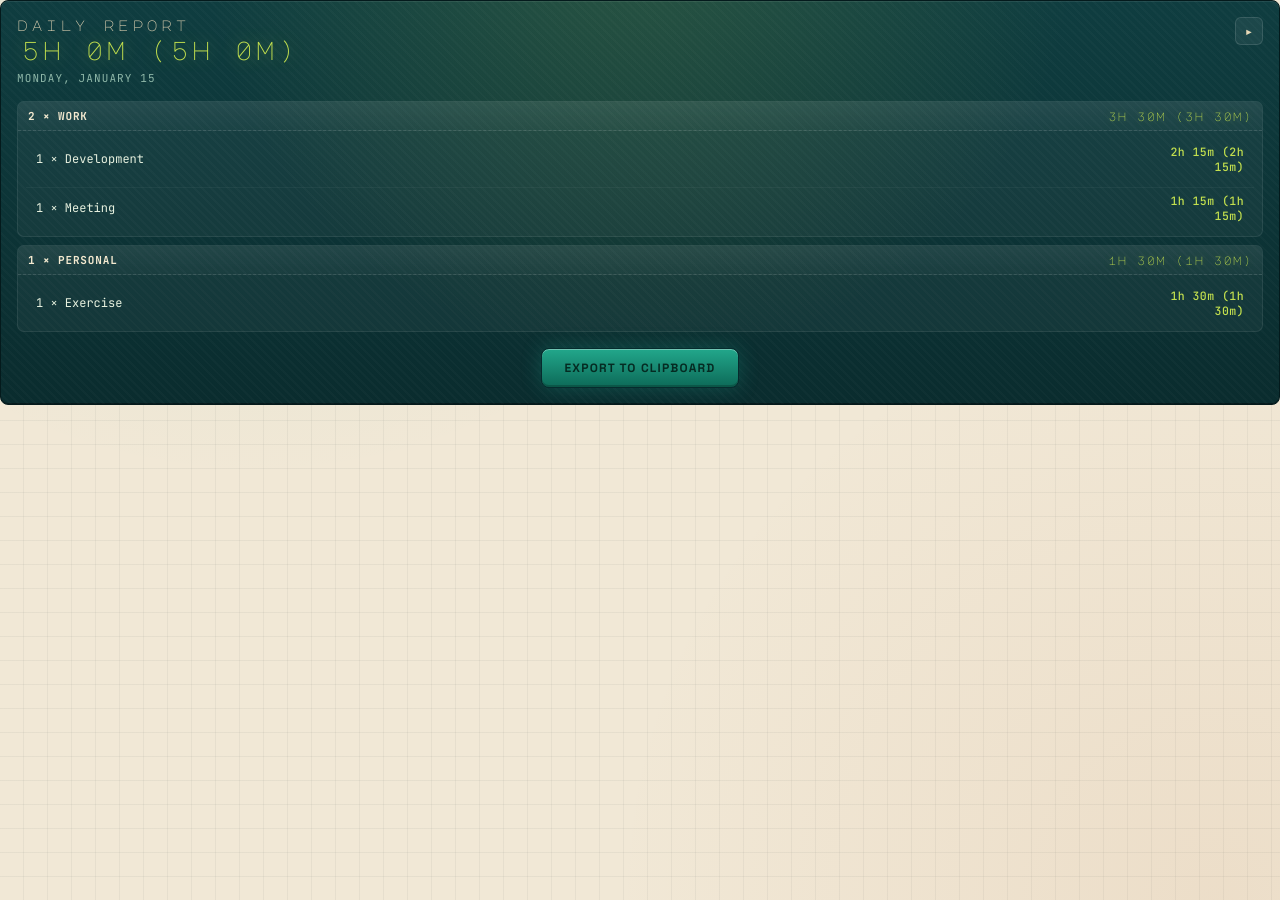
Test: DailyReport Component › Export Functionality › should show success toast after export
The image size is (1280, 900).
Click the button with test id "export-button".
click(640, 368)  # box [542,348,738,388]
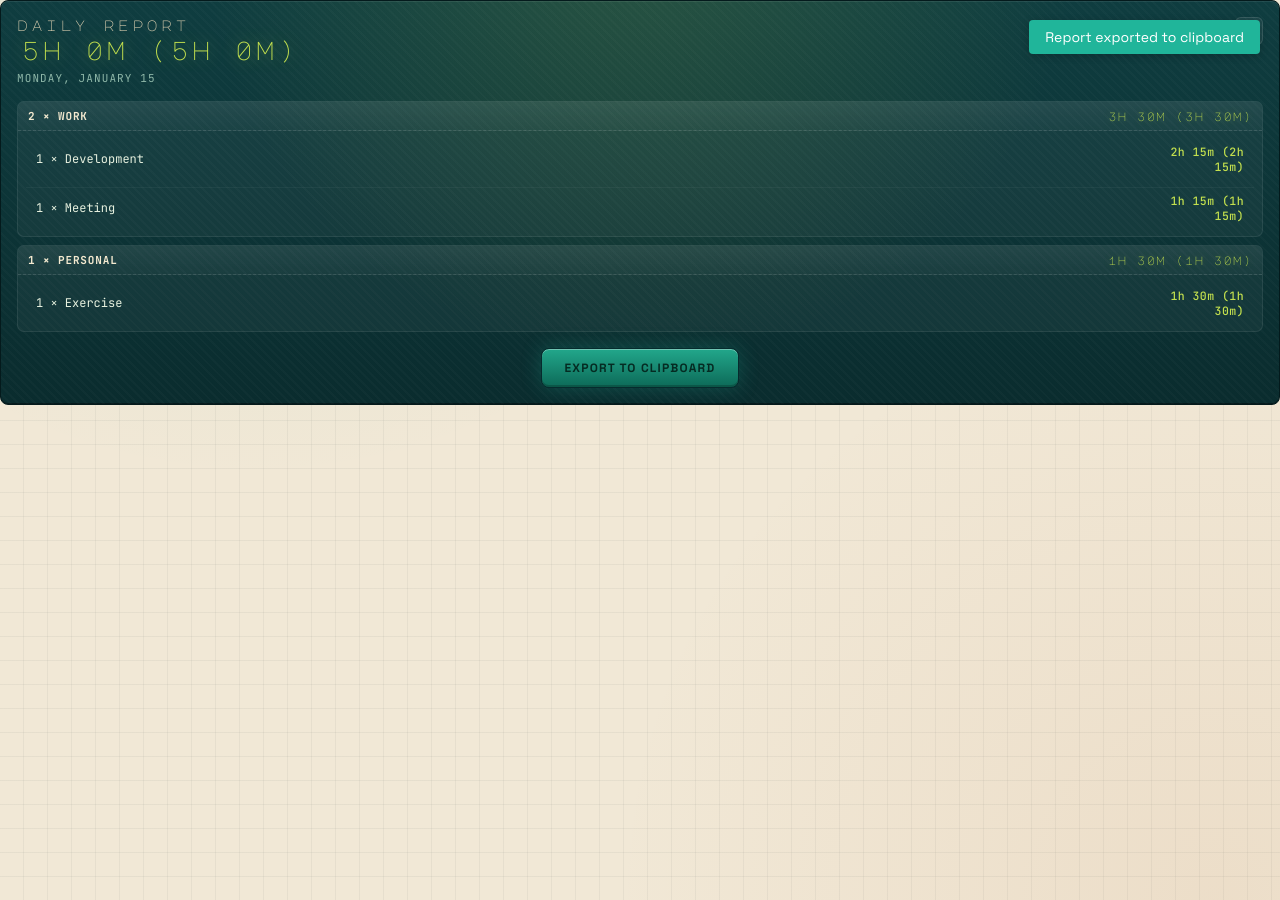
Expected: the message "Report exported to clipboard" is shown, [1029,20,1260,54]
Expected: the message with class "copy-toast" reads "Report exported to clipboard", [1045,28,1244,46]
